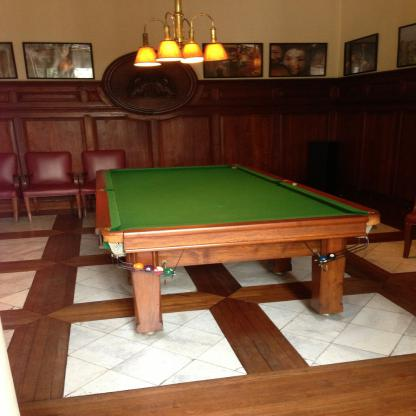Ball: (165, 268, 174, 277), (134, 263, 142, 271), (155, 266, 163, 274), (146, 265, 155, 272)
